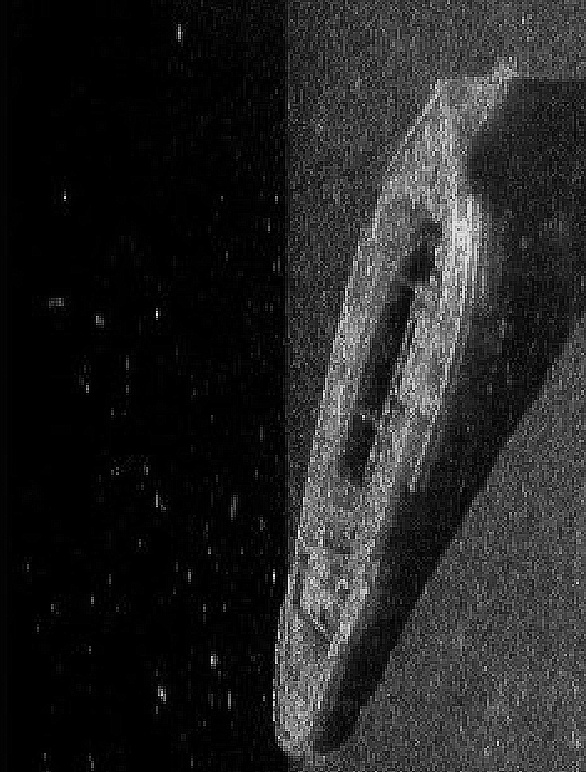ship: (280, 65, 512, 742)
